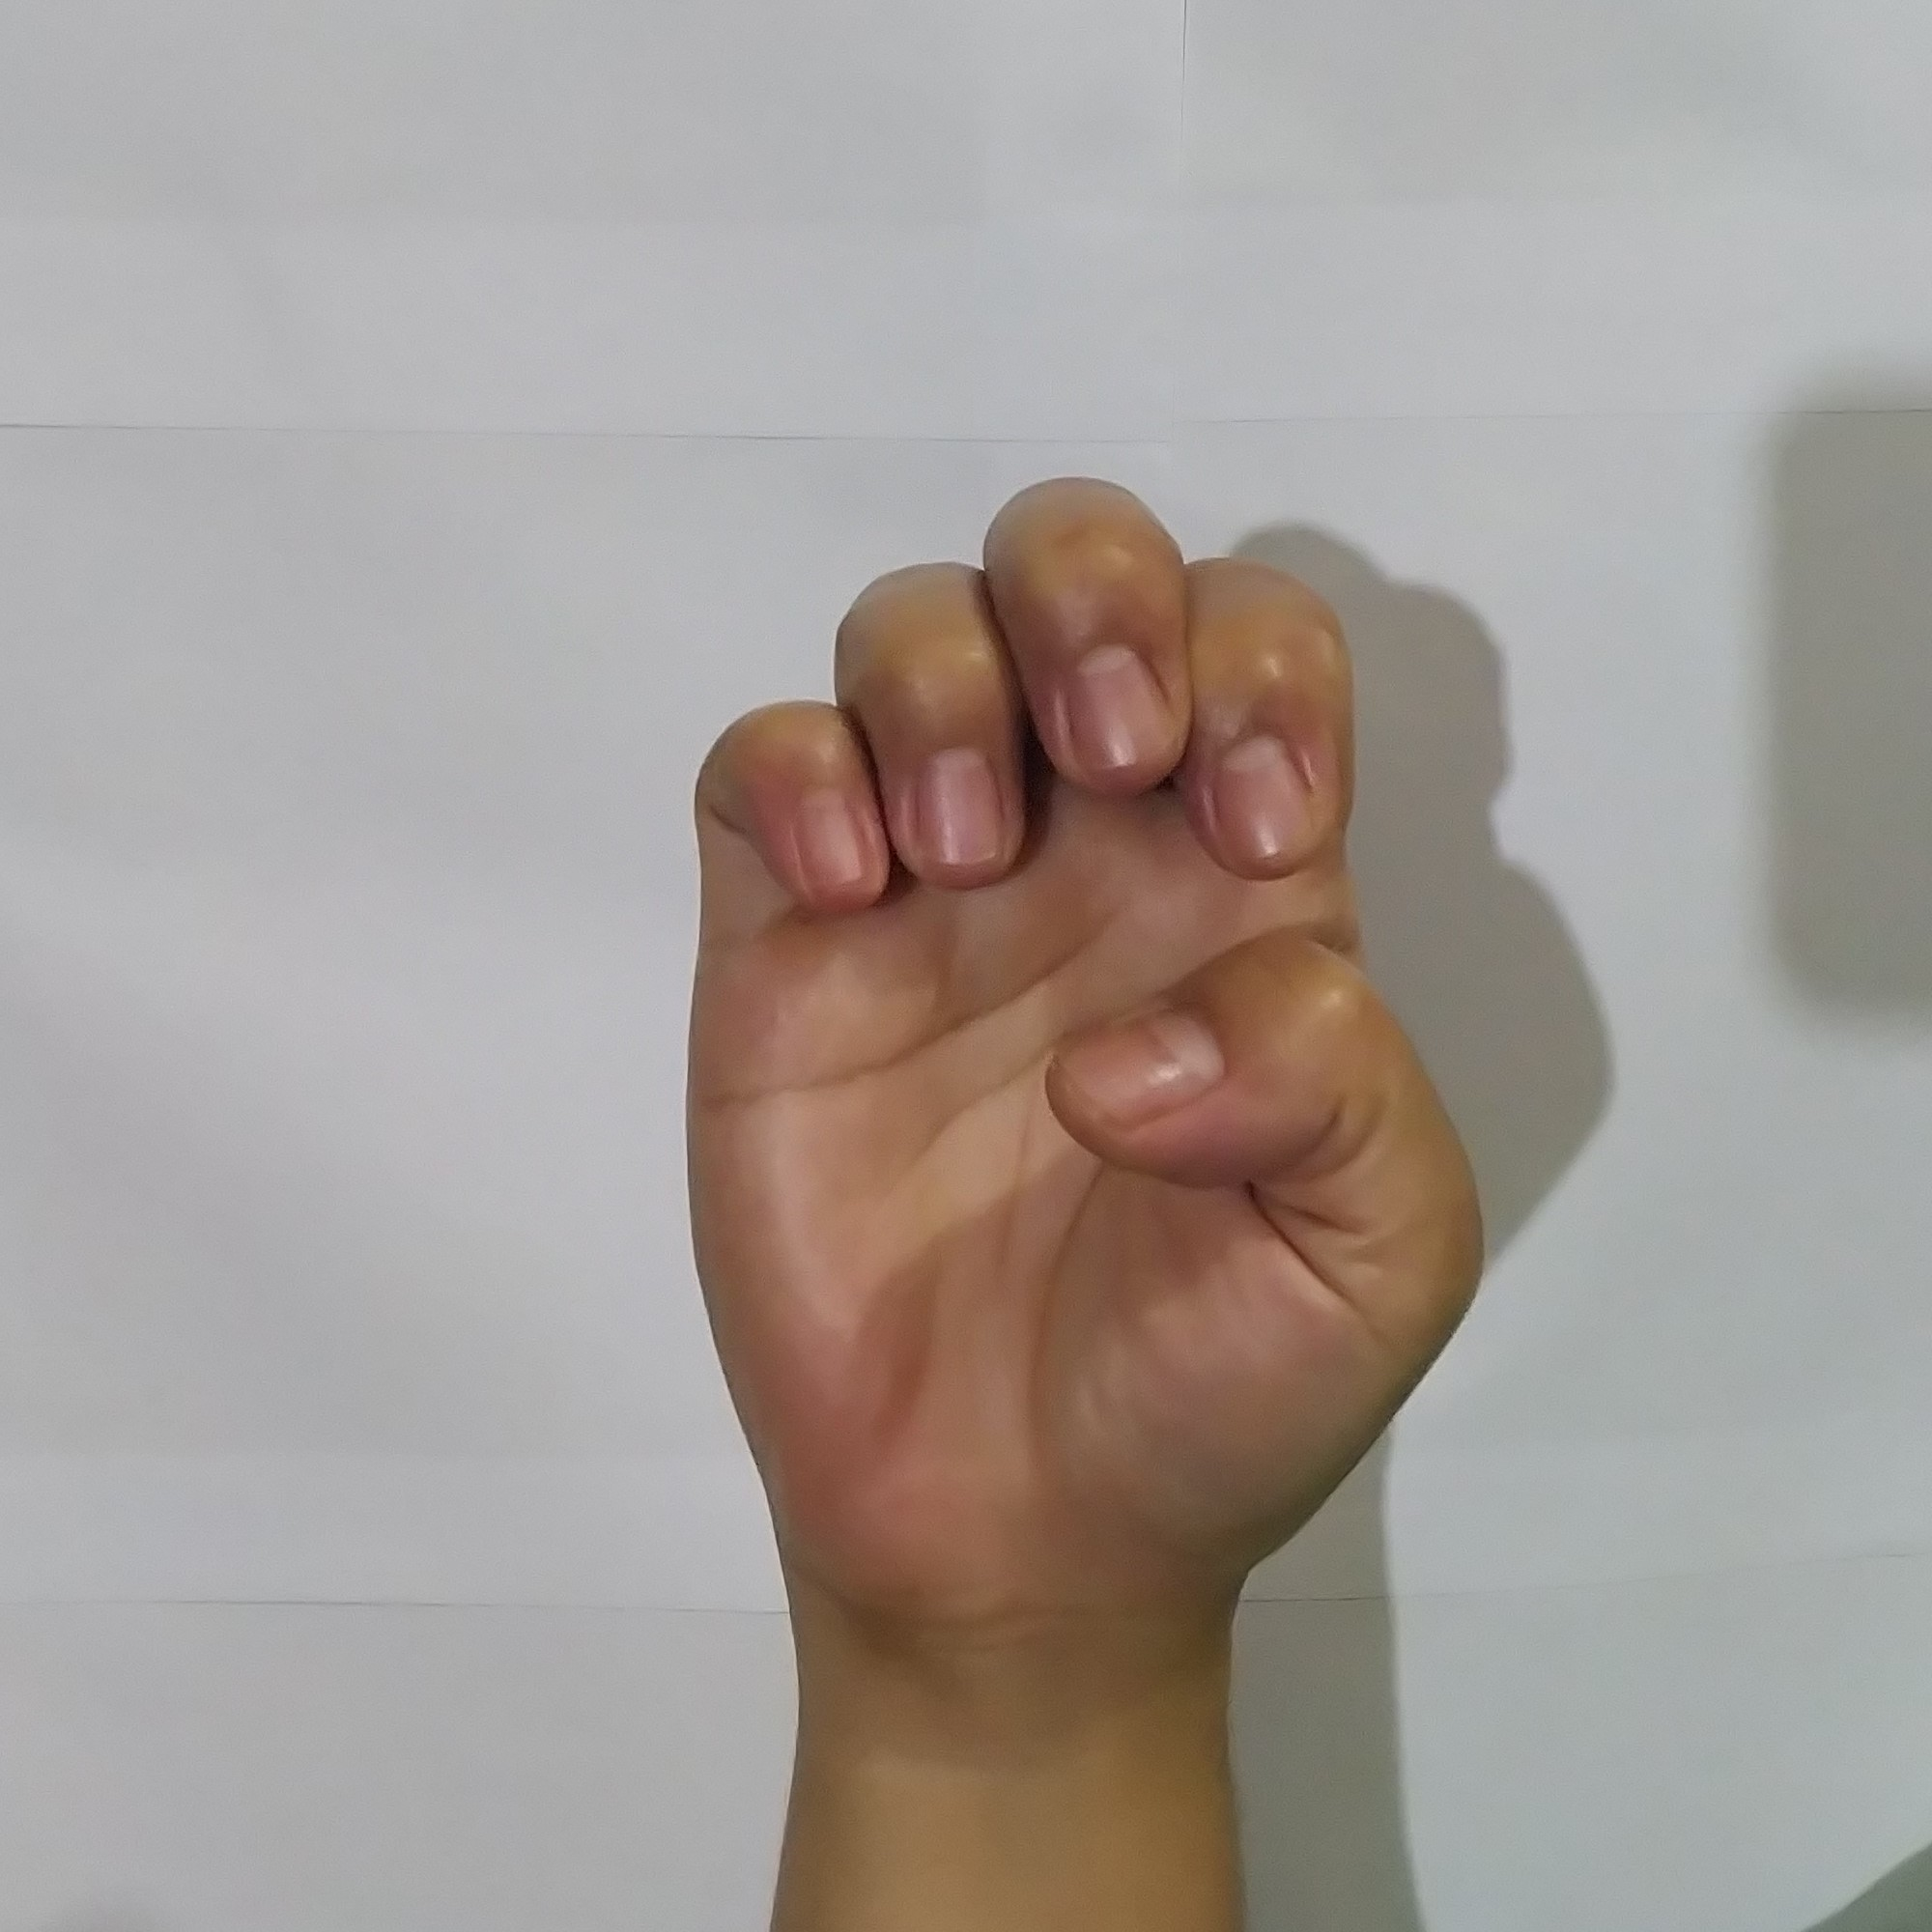E: (649, 460, 1497, 1562)
